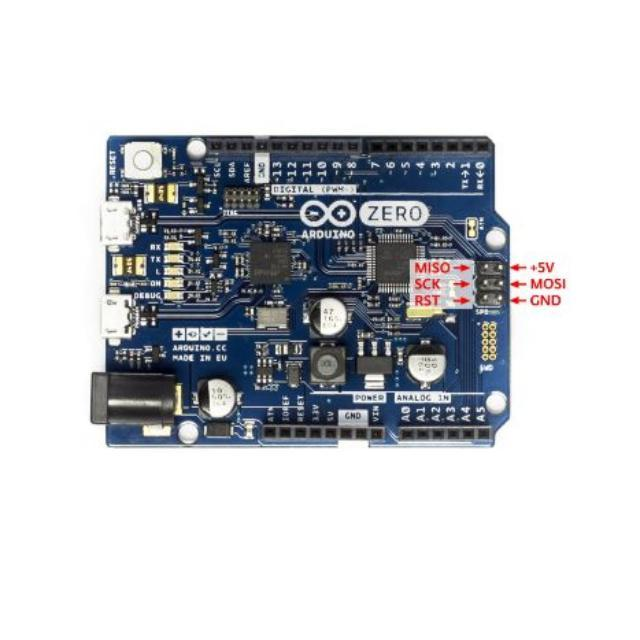Arduino-Zero: (92, 136, 520, 447)
